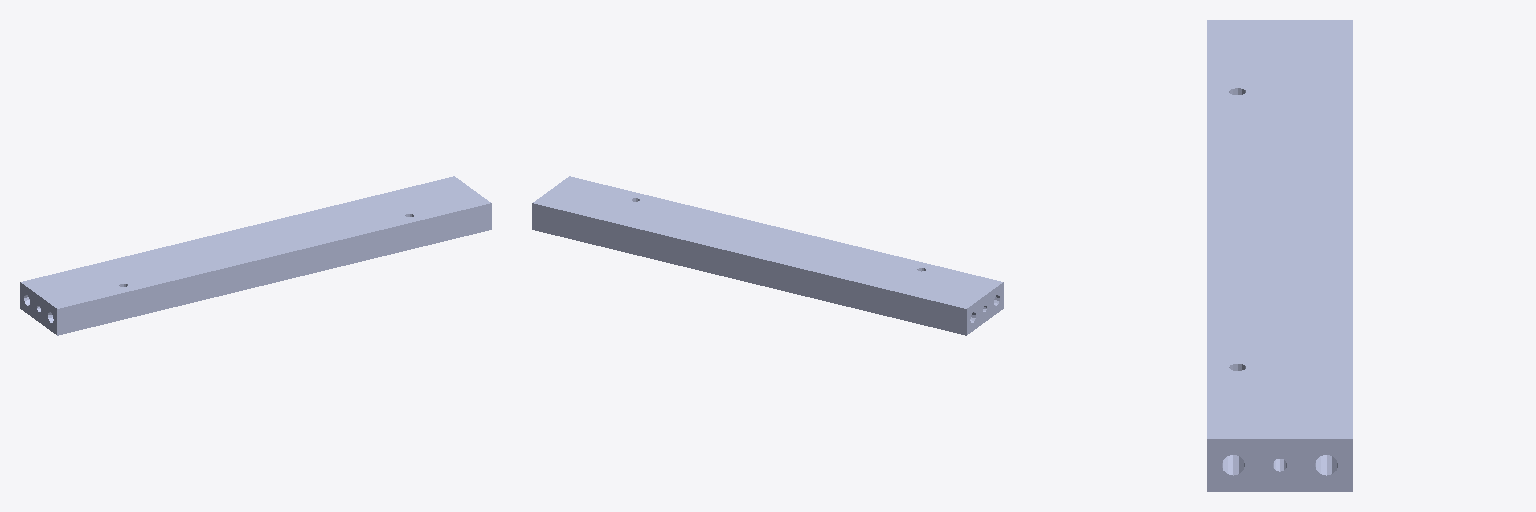
URDF robot description (chair part2.SLDPRT):
<?xml version="1.0" encoding="utf-8"?>
<!-- This URDF was automatically created by SolidWorks to URDF Exporter! Originally created by [author] ([email redacted]) 
     Commit Version: 1.5.1-0-g916b5db  Build Version: 1.5.7152.31018
     For more information, please see http://wiki.ros.org/sw_urdf_exporter -->
<robot
  name="chair part2.SLDPRT">
  <link
    name="chair part2.SLDPRT">
    <inertial>
      <origin
        xyz="1.1264E-17 3.19400000000006E-05 0.01"
        rpy="-1.5707963267949 0 0" />
      <mass
        value="0.33374" />
      <inertia
        ixx="8.0767E-05"
        ixy="1.6657E-20"
        ixz="4.6739E-20"
        iyy="0.0031965"
        iyz="-3.73900000000036E-08"
        izz="0.0031383" />
    </inertial>
    <visual>
      <origin
        xyz="0 0 0"
        rpy="0 0 0" />
      <geometry>
        <mesh
          filename="package://object_description/chair_meshes/chair part2.SLDPRT.STL" />
      </geometry>
      <material
        name="">
        <color
          rgba="0.79216 0.81961 0.93333 1" />
        <texture
          filename="package://object_description/textures/" />
      </material>
    </visual>
    <collision>
      <origin
        xyz="0 0 0"
        rpy="0 0 0" />
      <geometry>
        <mesh
          filename="package://object_description/chair_meshes/chair part2.SLDPRT.STL" />
      </geometry>
      <surface>
      <contact>
          <ode>
            <kp>1.0E+15</kp>
            <kd>1.0E+13</kd>
          </ode>
        </contact>
      </surface>
    </collision>
  </link>
  <gazebo reference="chair part2.SLDPRT">
    <material>Gazebo/White</material>
    <kp>100000.0</kp>
    <kd>1.0</kd>
    <mu1>100000</mu1>
    <mu2>100000</mu2>
    <maxVel>0</maxVel>
    <minDepth>0.00</minDepth>
  </gazebo>
</robot>

--- Facts derived from the render (not from the file) ---
Views: 3 orthographic renders of the robot side by side, from view 1: azimuth 30°, elevation 25°; view 2: azimuth 150°, elevation 25°; view 3: azimuth 270°, elevation 25°.
Robot: chair part2.SLDPRT — 1 links, 0 joints (none); root link chair part2.SLDPRT; default pose: all joints at 0.
Visible links, largest first — view 1: chair part2.SLDPRT; view 2: chair part2.SLDPRT; view 3: chair part2.SLDPRT.
Boxes of the visible links, box(x1,y1,x2,y2) form: chair part2.SLDPRT: box(20, 176, 491, 335); chair part2.SLDPRT: box(532, 176, 1003, 335); chair part2.SLDPRT: box(1207, 20, 1352, 491).
Bounding box of the posed robot: 0.34 × 0.05 × 0.02 m (x, y, z).
Meshes: 1 distinct files referenced, 1 mesh visuals loaded (1 binary STL).